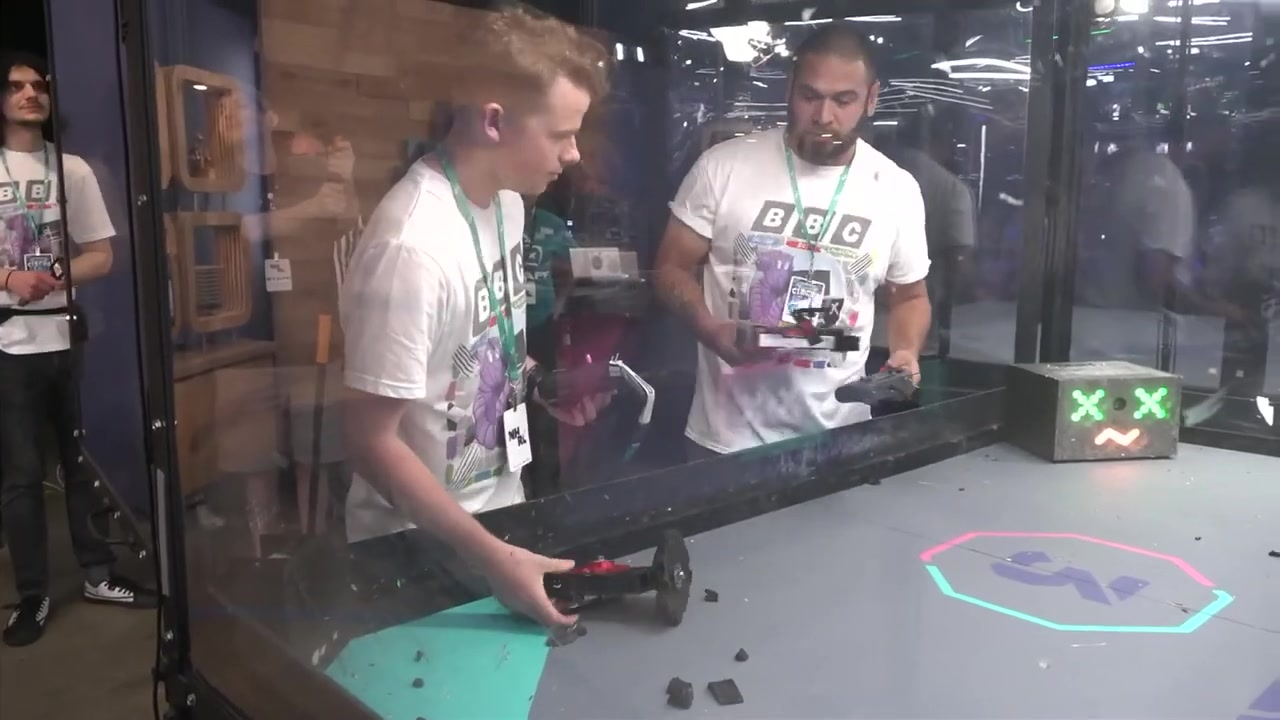combatbot: (513, 526, 694, 633)
debris: (704, 678, 745, 704), (663, 674, 694, 708)
housebot: (1006, 360, 1184, 466)
